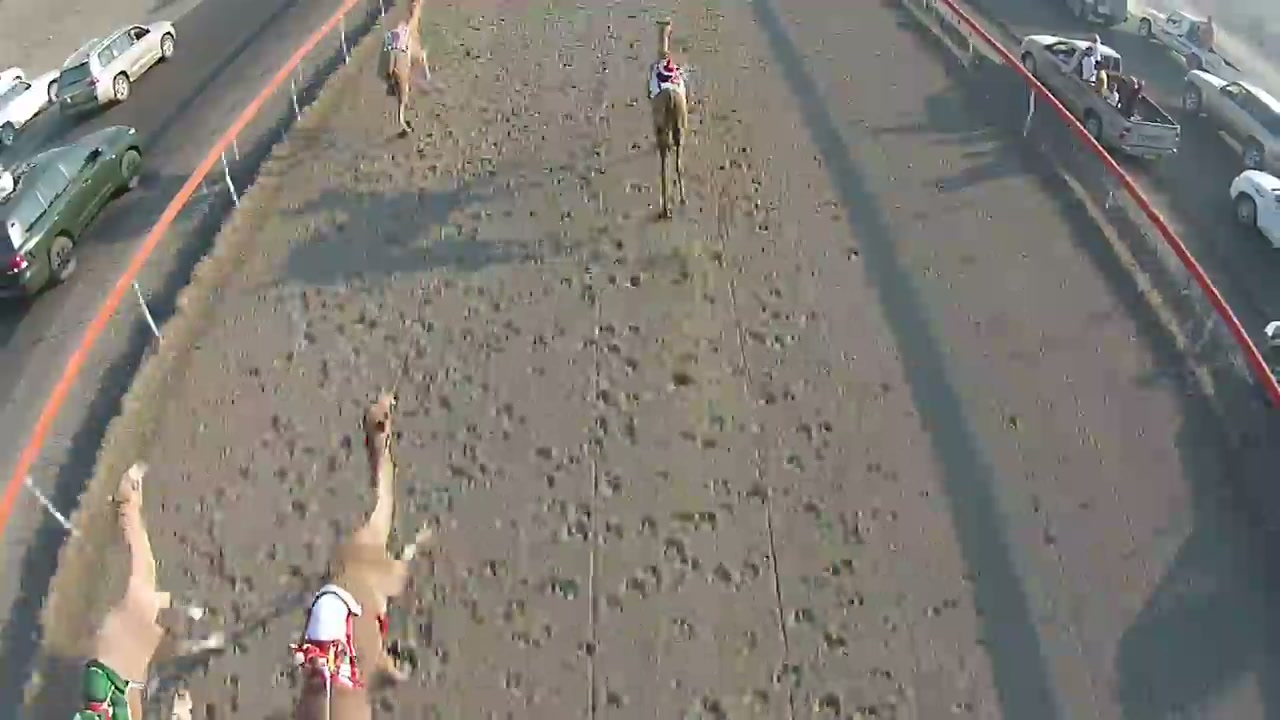animal_footprint: (153, 118, 422, 719), (522, 44, 684, 708)
